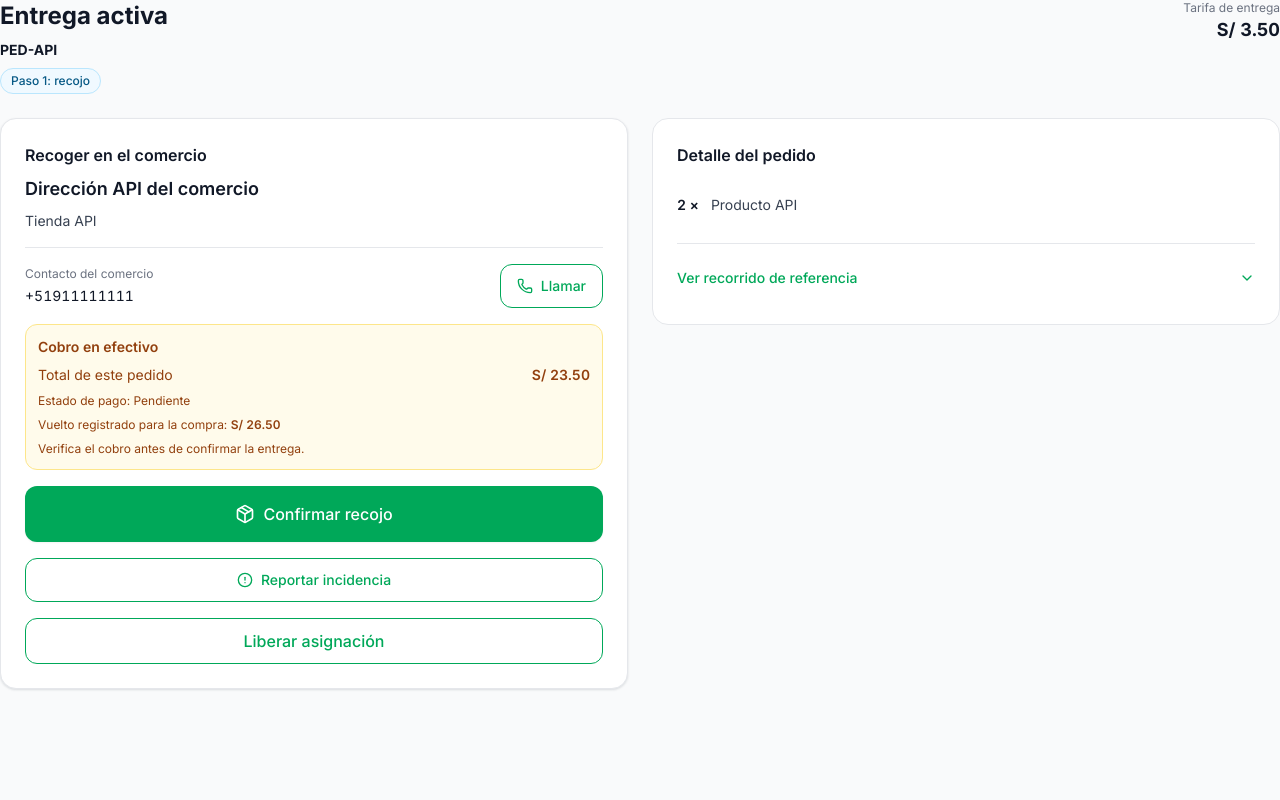
Test case: conserva comentario de incidencia si GET no confirma el registro
Click the button "Reportar incidencia" at (314, 580), box [25,558,603,602]
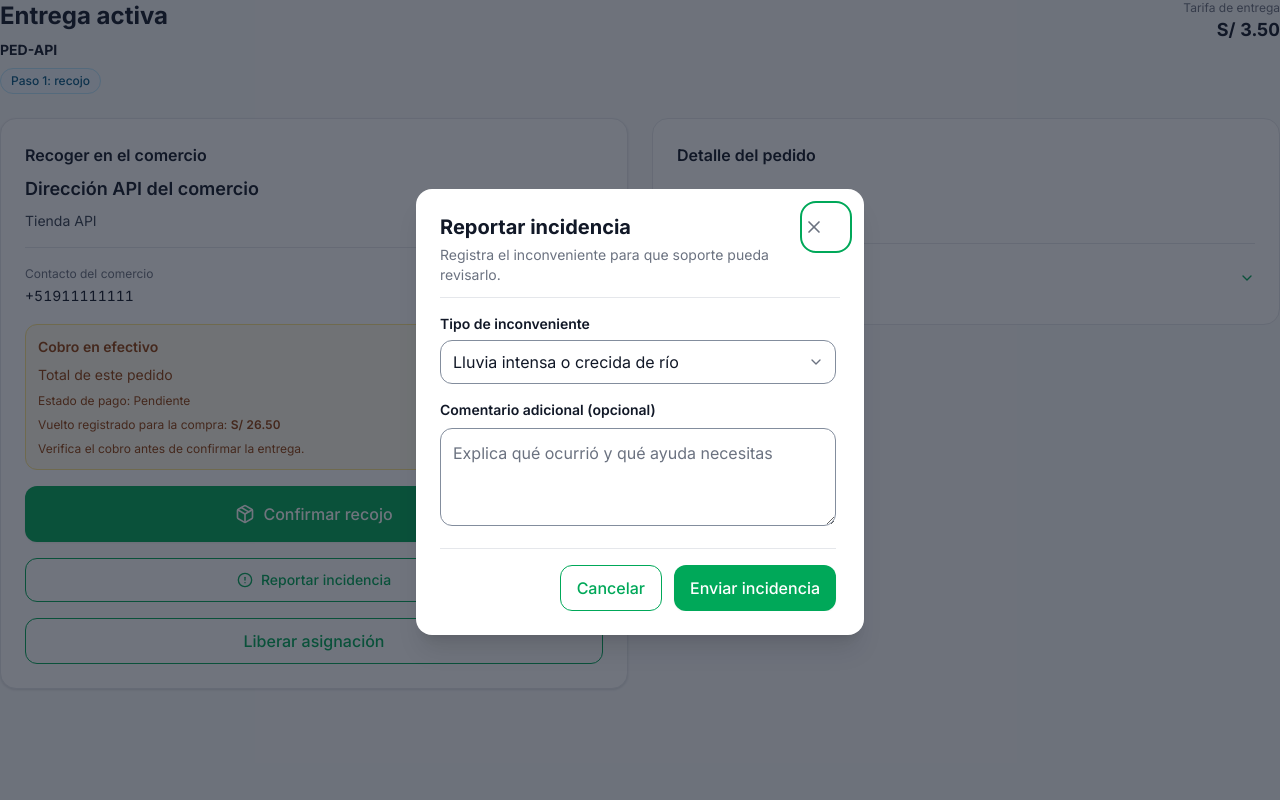
Type "Necesito ayuda" into the text box labelled "Comentario adicional (opcional)" at (638, 477), box [440,428,836,526]
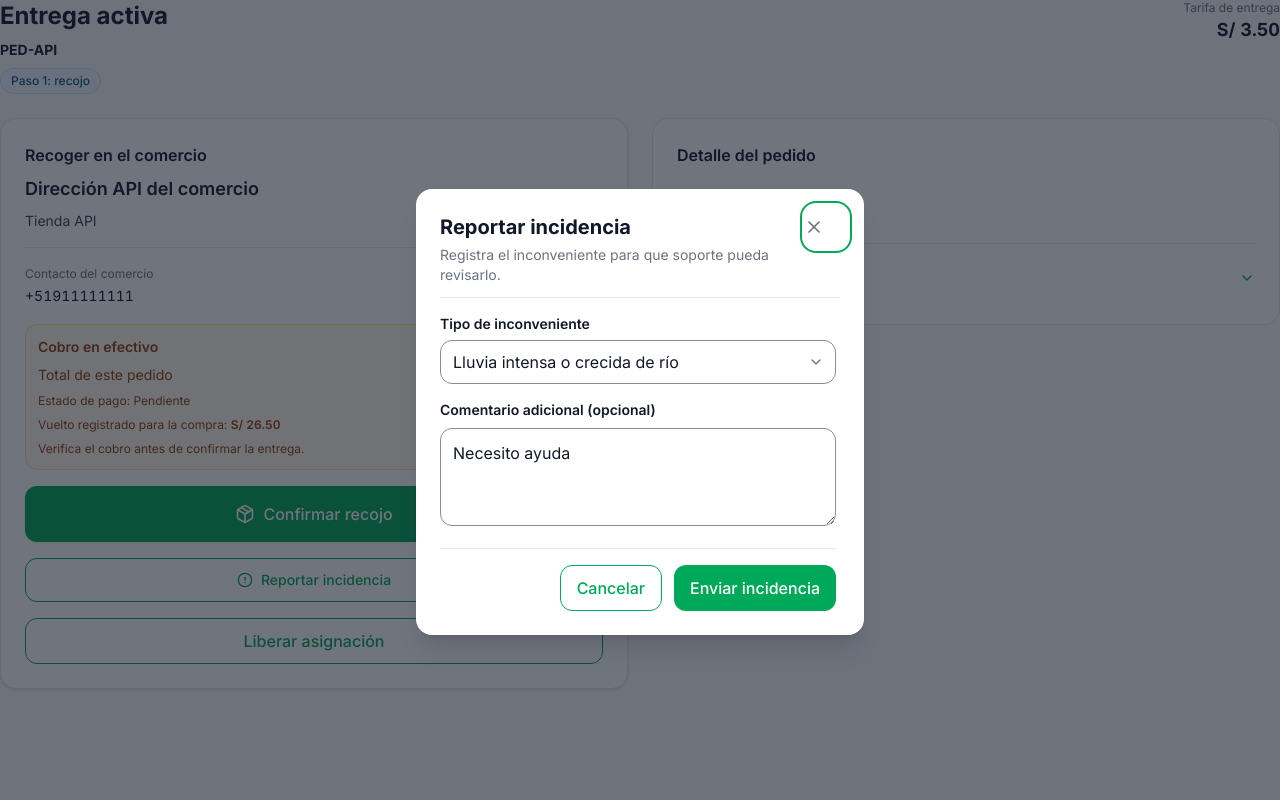
Click the button "Enviar incidencia" at (755, 588), box [674,565,836,611]
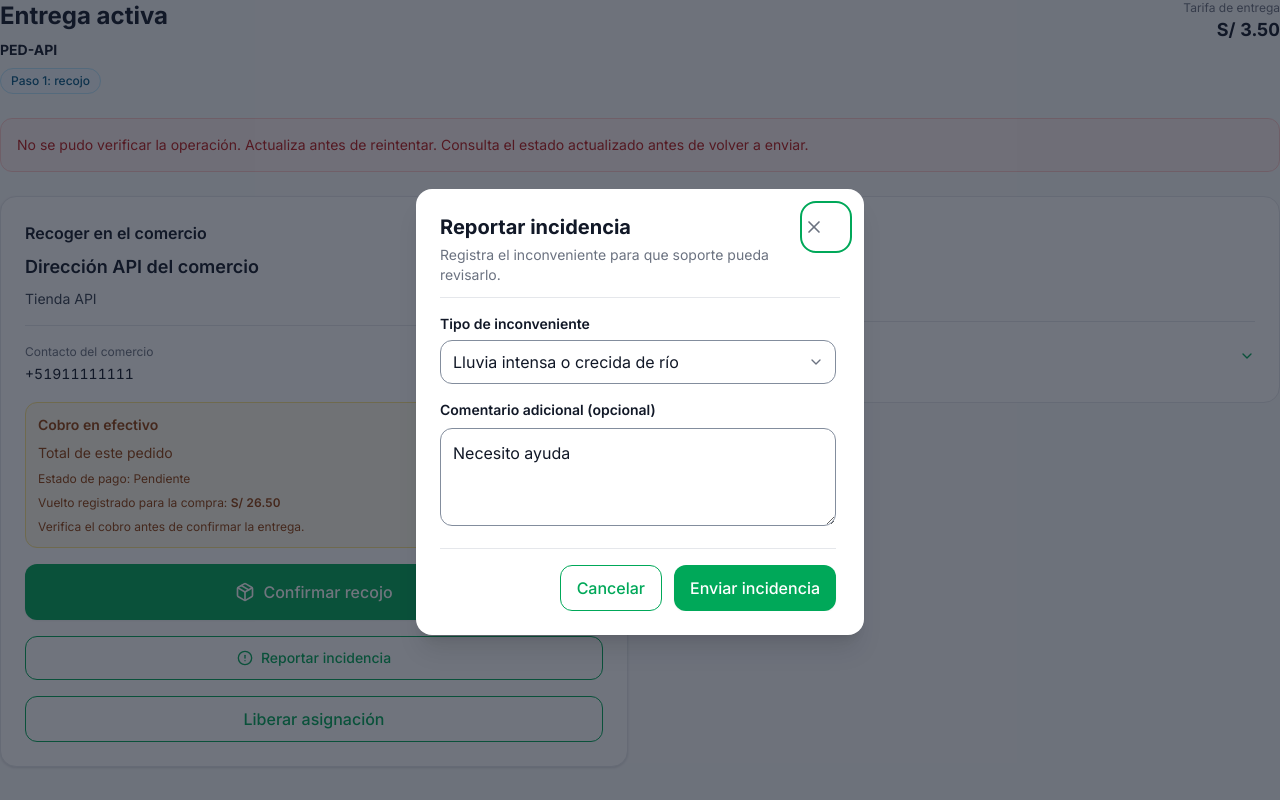
Check: the message shows "No se pudo verificar", box [17,136,809,153]
